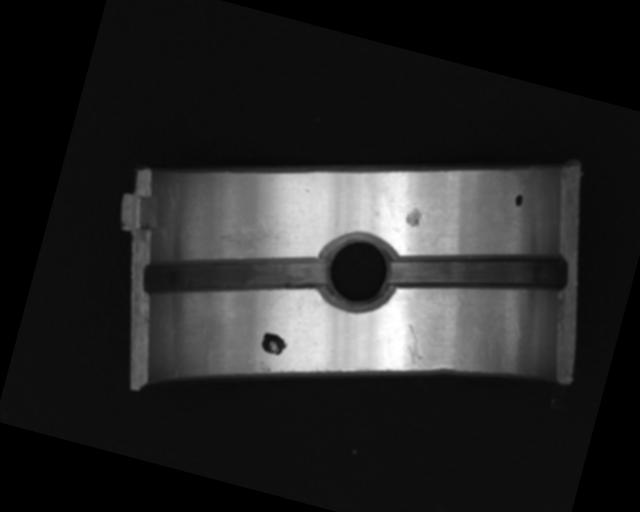blot: (257, 329, 289, 357), (512, 193, 525, 208)
bruise: (404, 204, 423, 229)
gap: (140, 216, 330, 334), (387, 216, 573, 322)
hole: (310, 223, 403, 317)
nick: (397, 322, 430, 371)
scratch: (189, 201, 276, 267)
